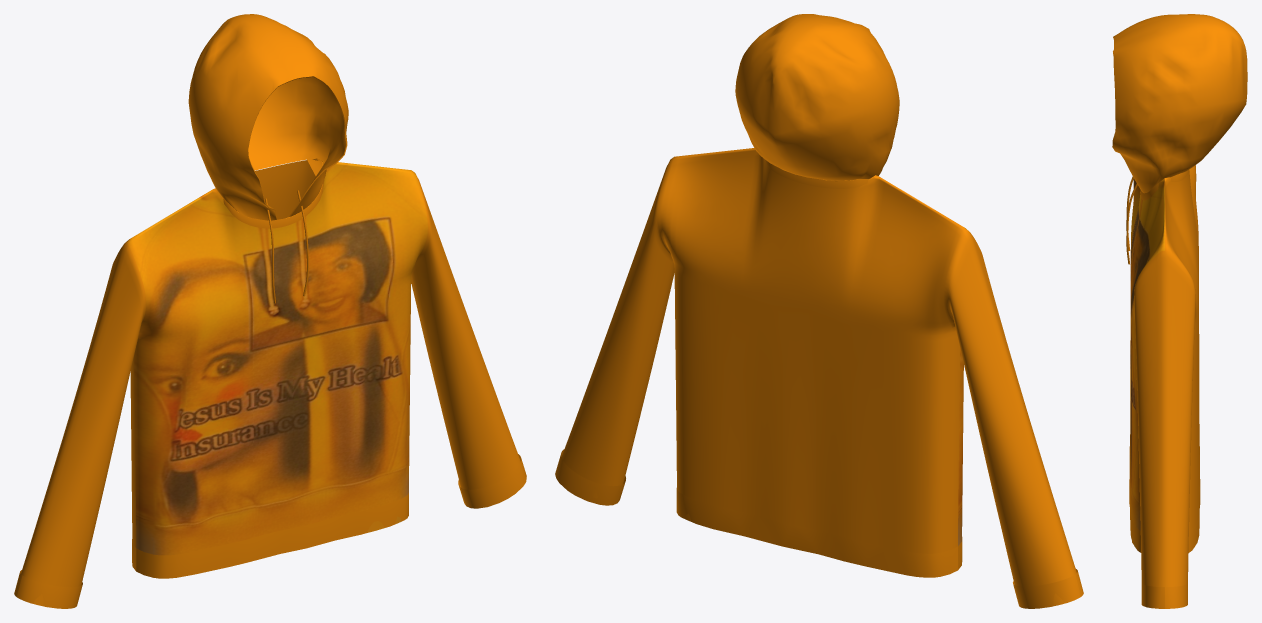
Rendered from jesus-health-insurance-hoodie-tailored-v6.glb.
3 views of the same model, side by side, from view 1: azimuth 30°, elevation 25°; view 2: azimuth 150°, elevation 25°; view 3: azimuth 270°, elevation 25° (orthographic). The views are drawn at different scales.
Parts seen in each view (by area): view 1: front cotton, Sleeve cotton, Open hood panels, Bound collar and folded hems, Hood lining, Interior cotton, back cotton; view 2: back cotton, Sleeve cotton, Open hood panels, Bound collar and folded hems, front cotton; view 3: Open hood panels, Sleeve cotton, back cotton, front cotton, Bound collar and folded hems, Hood drawcords.
Boxes of the visible parts, x1=… form: front cotton: x1=127, y1=162, x2=427, y2=555; Sleeve cotton: x1=21, y1=175, x2=526, y2=606; Open hood panels: x1=188, y1=14, x2=348, y2=220; Bound collar and folded hems: x1=14, y1=158, x2=526, y2=608; Hood lining: x1=248, y1=77, x2=346, y2=209; Interior cotton: x1=255, y1=159, x2=320, y2=219; back cotton: x1=125, y1=238, x2=136, y2=547; back cotton: x1=657, y1=148, x2=967, y2=553; Sleeve cotton: x1=561, y1=162, x2=1076, y2=605; Open hood panels: x1=735, y1=14, x2=899, y2=180; Bound collar and folded hems: x1=555, y1=159, x2=1083, y2=608; front cotton: x1=958, y1=227, x2=969, y2=545; Open hood panels: x1=1112, y1=14, x2=1247, y2=193; Sleeve cotton: x1=1134, y1=251, x2=1195, y2=608; back cotton: x1=1165, y1=165, x2=1199, y2=548; front cotton: x1=1130, y1=178, x2=1164, y2=548; Bound collar and folded hems: x1=1129, y1=170, x2=1200, y2=608; Hood drawcords: x1=1126, y1=176, x2=1137, y2=264.
Size of the model in its own units: 0.9146 by 0.898 by 0.2238.
Materials: 9 (1 with a texture image).
